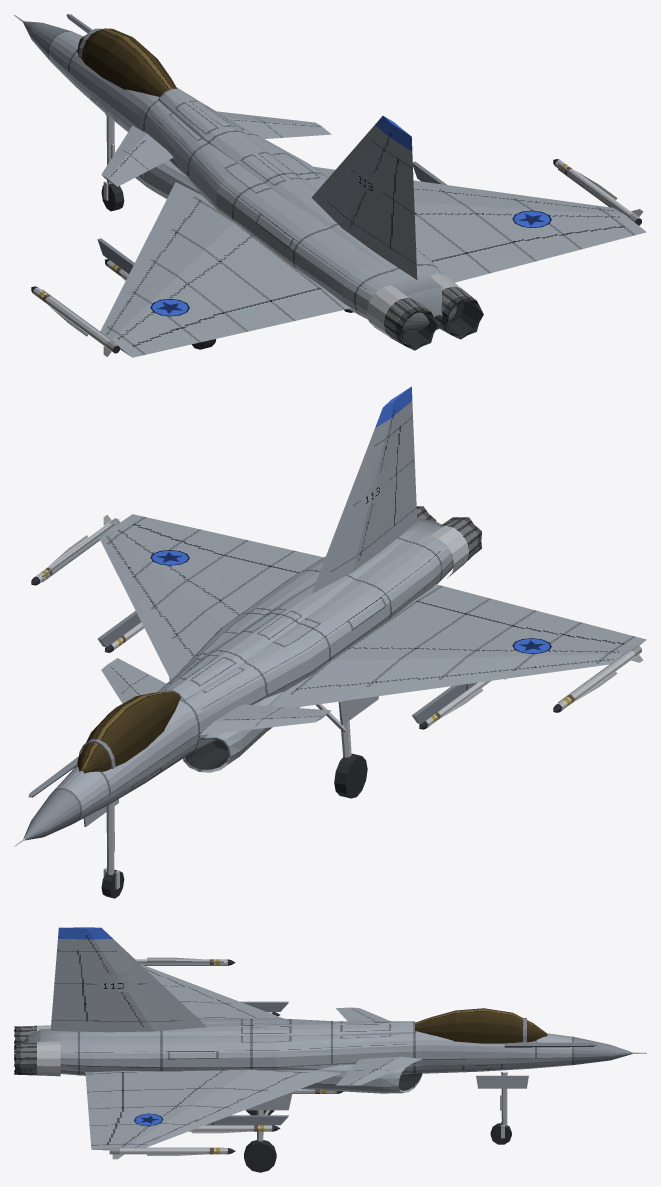
Rendered from rafale.glb.
3 views of the same model, one above another, from view 1: azimuth 30°, elevation 25°; view 2: azimuth 150°, elevation 25°; view 3: azimuth 270°, elevation 25° (orthographic). The views are drawn at different scales.
Visible parts, largest first — view 1: airframe, canopy, flap_l, canard_l, flap_r, rudder, aileron_l, aileron_r, canard_r, msl_0, msl_1, gear_nose; view 2: airframe, canopy, canard_l, flap_l, rudder, aileron_l, aileron_r, gear_main_l, flap_r, canard_r, gear_nose, msl_0 (+1 smaller); view 3: airframe, canopy, rudder, flap_r, canard_r, aileron_r, gear_main_r, msl_1, door_nose, gear_nose, msl_0, msl_3 (+2 smaller).
Part boxes in pixels (box(x1,y1,x2,y2)): airframe: box(14, 14, 646, 357); canopy: box(77, 28, 176, 96); flap_l: box(225, 288, 345, 331); canard_l: box(101, 126, 173, 186); flap_r: box(431, 242, 534, 282); rudder: box(389, 157, 416, 264); aileron_l: box(135, 312, 248, 354); aileron_r: box(511, 226, 632, 261); canard_r: box(217, 111, 331, 138); msl_0: box(31, 286, 119, 356); msl_1: box(553, 159, 643, 225); gear_nose: box(101, 115, 124, 211); airframe: box(14, 386, 646, 846); canopy: box(77, 691, 180, 773); canard_l: box(199, 704, 331, 735); flap_l: box(416, 585, 534, 625); rudder: box(393, 415, 416, 525); aileron_l: box(511, 610, 632, 643); aileron_r: box(135, 517, 248, 555); gear_main_l: box(316, 703, 367, 798); flap_r: box(225, 540, 323, 573); canard_r: box(101, 658, 166, 703); gear_nose: box(101, 801, 124, 898); msl_0: box(553, 645, 643, 712); airframe: box(14, 927, 646, 1150); canopy: box(415, 1008, 547, 1043); rudder: box(51, 950, 88, 1020); flap_r: box(85, 1072, 124, 1108); canard_r: box(336, 1056, 422, 1086); aileron_r: box(88, 1107, 122, 1144); gear_main_r: box(244, 1110, 276, 1172); msl_1: box(109, 1148, 235, 1159); door_nose: box(476, 1075, 528, 1088); gear_nose: box(490, 1072, 511, 1144); msl_0: box(135, 957, 235, 965); msl_3: box(189, 1125, 280, 1133).
Bounding box in the file's own units: 11.26 × 5.85 × 15.55.
6 materials, 6 textured.
